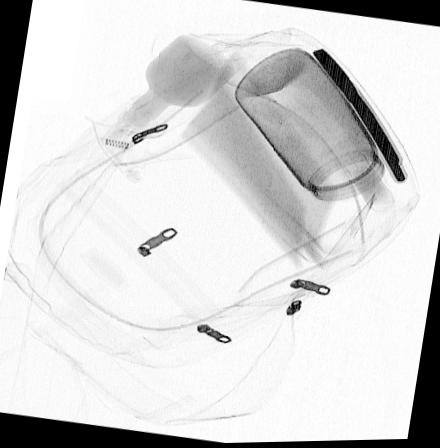Pliers: (309, 48, 410, 188)
